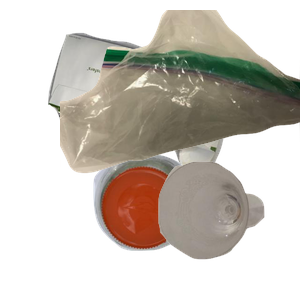glass: (156, 159, 300, 300)
paper: (45, 30, 281, 195)
plastic: (91, 152, 281, 300)
trash: (60, 10, 300, 176)
